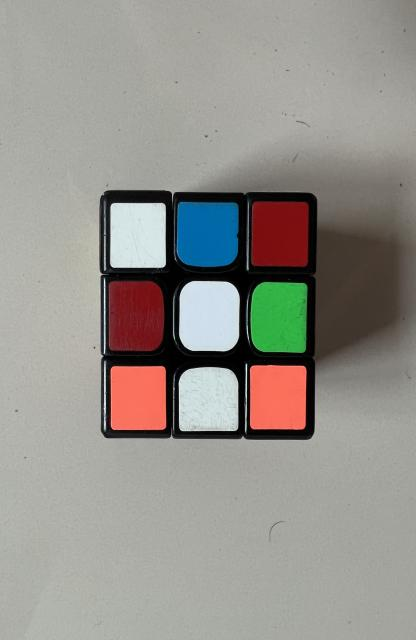Blue: (177, 202, 238, 268)
Green: (250, 282, 308, 352)
Orange: (250, 365, 307, 430), (110, 366, 167, 430)
Red: (108, 281, 165, 351), (251, 201, 309, 266)
White: (179, 281, 239, 351), (179, 368, 238, 431), (110, 202, 166, 268)
